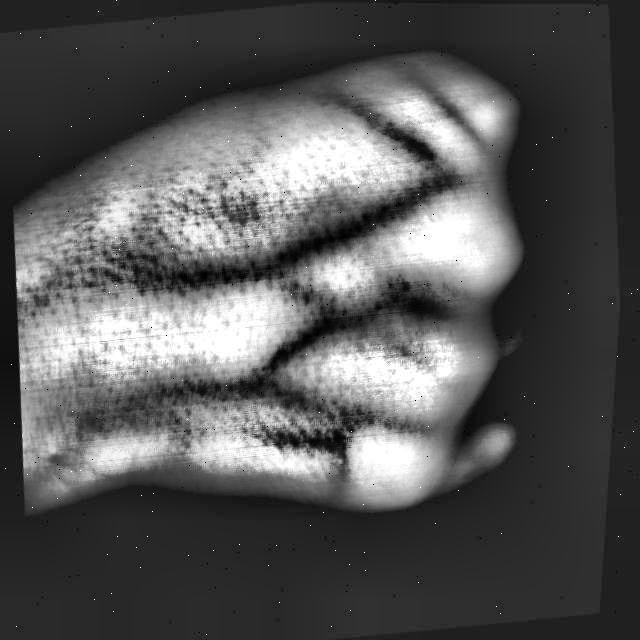Vein: (67, 255, 254, 303), (64, 371, 242, 420)
